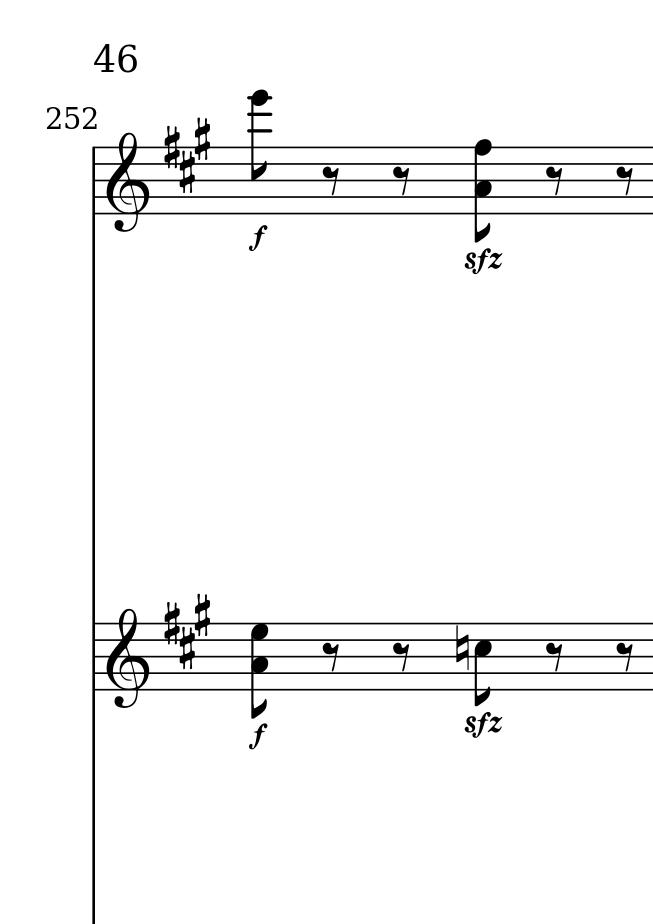2: (45, 105, 63, 134), (79, 105, 98, 131)
4: (93, 43, 114, 74)
5: (64, 104, 79, 132)
6: (117, 42, 139, 73)
8_14: (249, 88, 274, 215)
8_5: (473, 620, 494, 706)
A_S: (162, 592, 212, 669), (164, 116, 212, 193)
Gclef: (103, 602, 154, 708), (105, 130, 151, 235)
Natural: (454, 624, 471, 675)
Rests8: (542, 640, 569, 674), (320, 165, 345, 197), (615, 164, 637, 199), (391, 641, 414, 674), (613, 639, 636, 672), (545, 164, 566, 197), (320, 641, 342, 672), (391, 165, 412, 197)
Single_barline: (86, 622, 102, 692), (86, 146, 102, 215)
f: (245, 221, 269, 257), (245, 721, 266, 753)
sfz: (462, 245, 505, 277), (461, 710, 505, 738)
